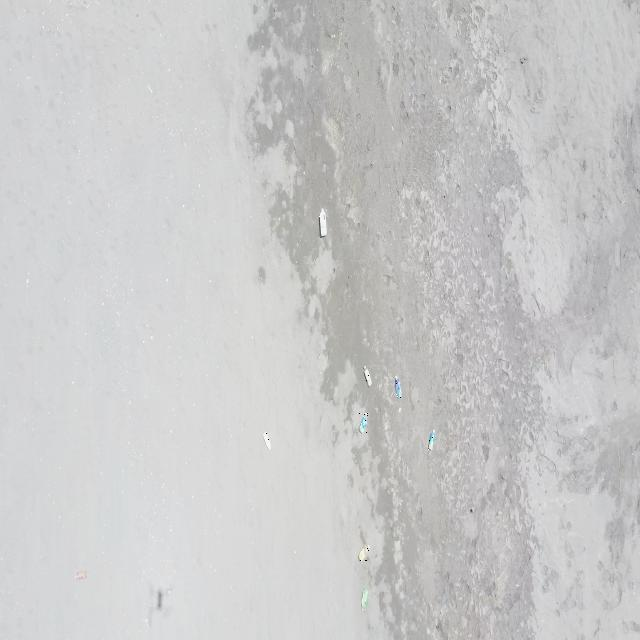plastic-bottle: (319, 208, 328, 237), (358, 544, 371, 561), (396, 374, 404, 399), (359, 412, 368, 434), (363, 364, 371, 387), (362, 587, 369, 611), (428, 430, 436, 451), (263, 431, 271, 451)
